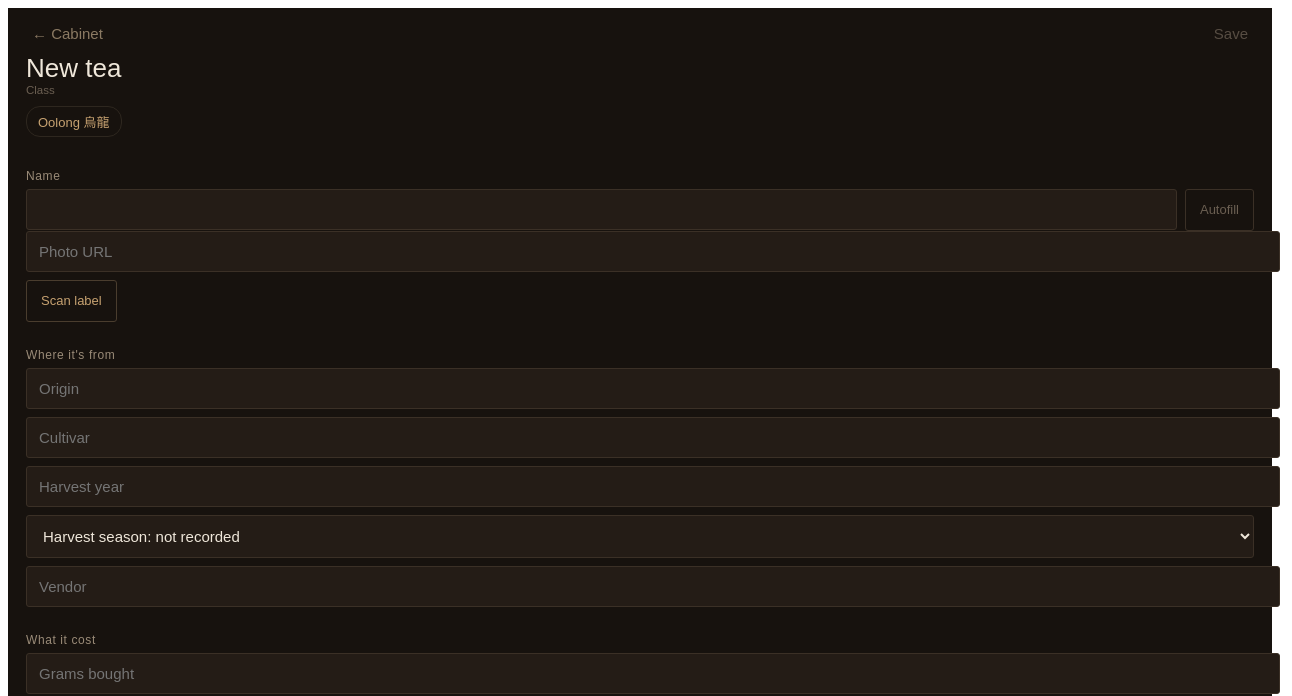
Test case: NewTeaPage › disables Save with an empty name, then with a name but no classification, and enables once both are set
The width and height of the screenshot is (1292, 696).
Expected: the button with test id "new-save" is disabled, left=1208, top=24, right=1254, bottom=43
Step 1. Type "Da Hong Pao" into the field with test id "field-name" → (602, 209), box left=26, top=189, right=1177, bottom=230
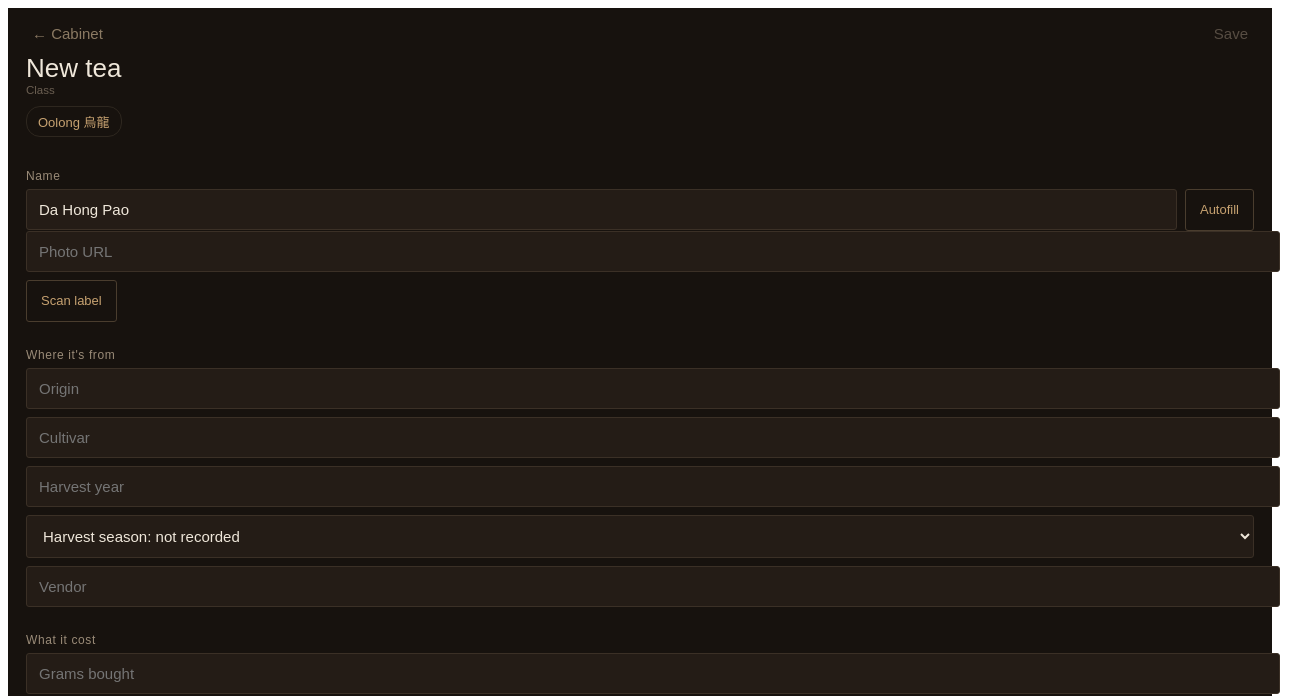
Expected: the button with test id "new-save" is disabled, left=1208, top=24, right=1254, bottom=43
Step 2. Click the button with test id "chip-oolong" → (74, 121), box left=26, top=106, right=122, bottom=137
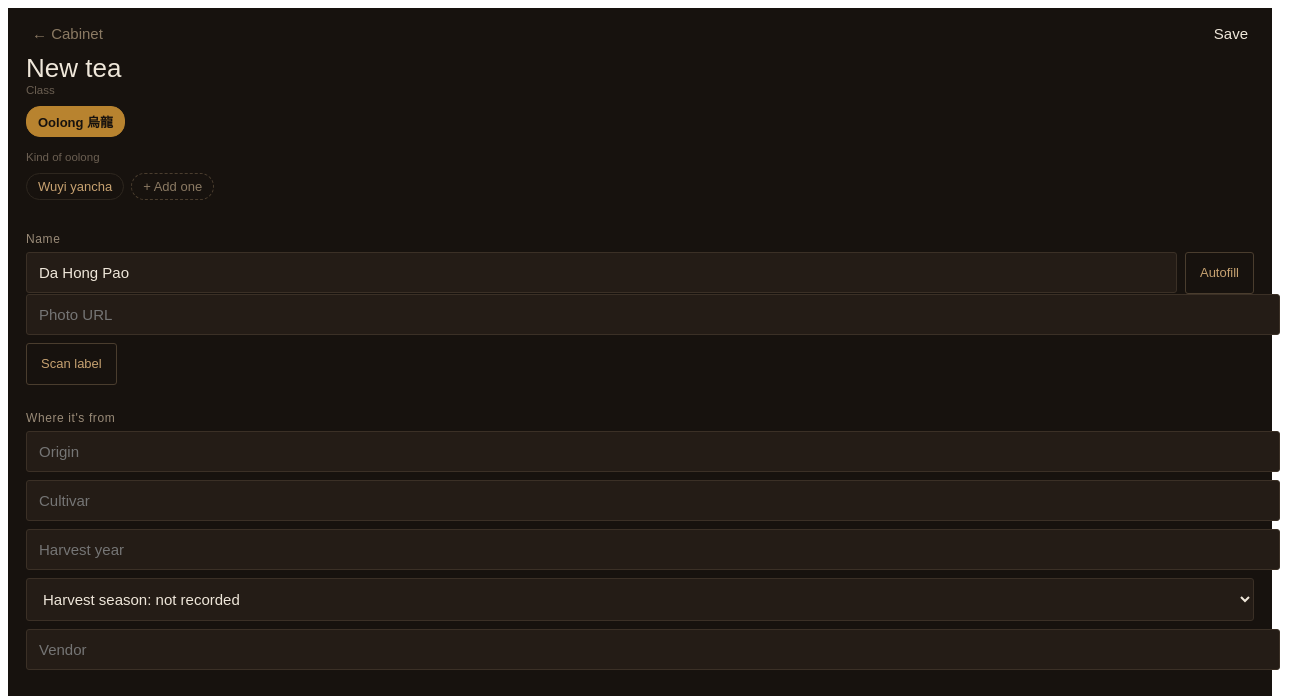
Result: the button with test id "new-save" is enabled at left=1208, top=24, right=1254, bottom=43
